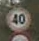limite 40: (4, 5, 32, 32)
